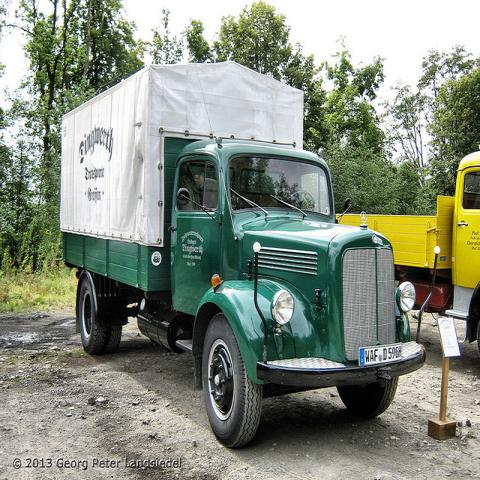truck: (61, 59, 427, 448), (367, 149, 479, 353)
